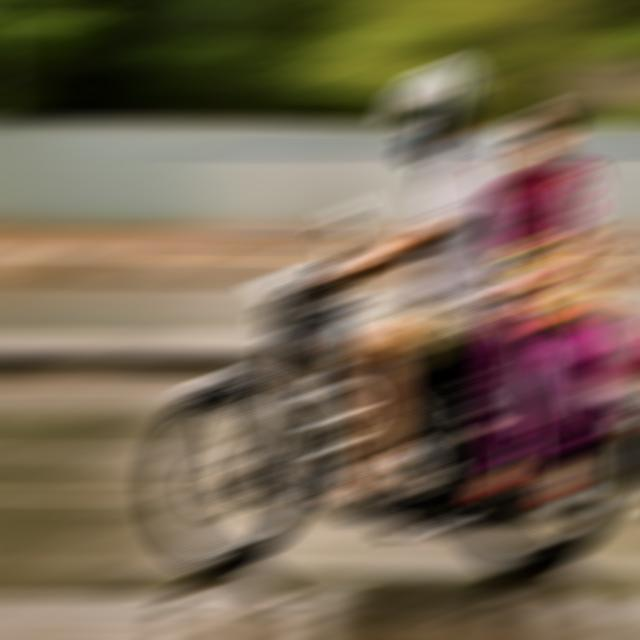With Helmet: (382, 58, 480, 160)
Without Helmet: (511, 102, 571, 167)
